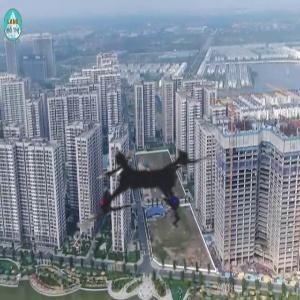drone: (35, 78, 255, 298)
